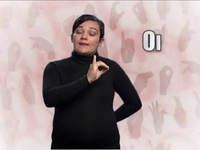oi: (82, 55, 109, 84)
